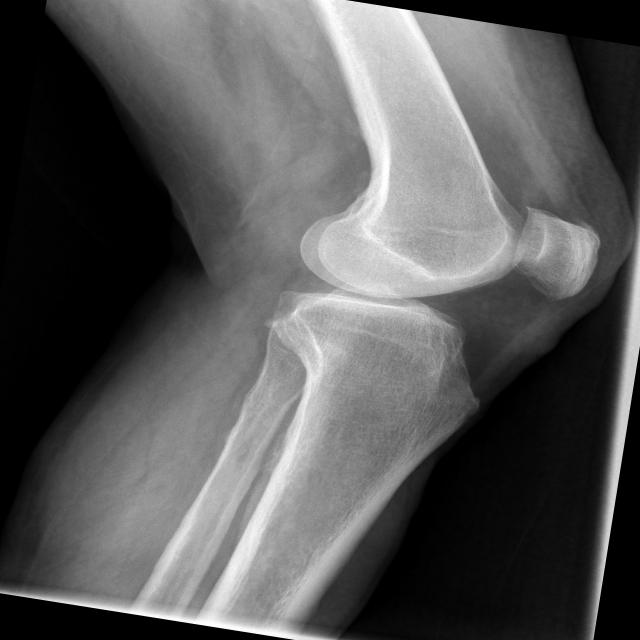Knee: (259, 168, 607, 435)
